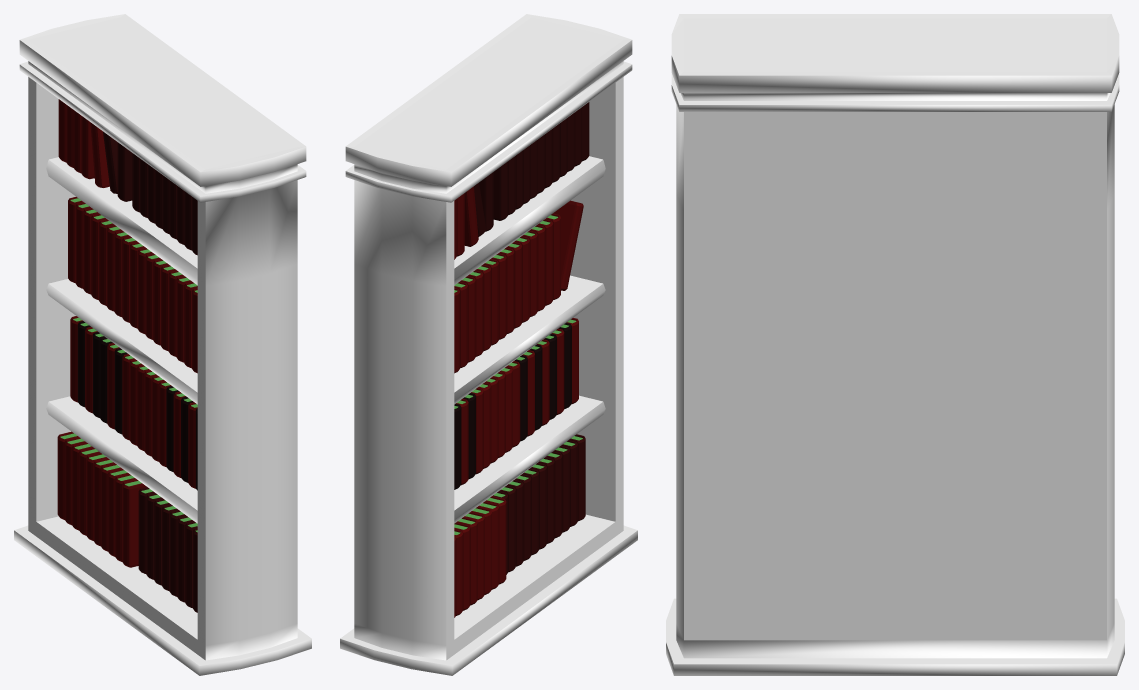
File: Left2.fbx
3 views of the same model, side by side, from view 1: azimuth 30°, elevation 25°; view 2: azimuth 150°, elevation 25°; view 3: azimuth 270°, elevation 25° (orthographic). The views are drawn at different scales.
Visible parts, largest first — view 1: Book Shelf.009; view 2: Book Shelf.009; view 3: Book Shelf.009.
Part boxes in pixels (<box>): Book Shelf.009: <box>14,14,311,675</box>; Book Shelf.009: <box>340,14,637,675</box>; Book Shelf.009: <box>666,14,1124,675</box>.
Bounding box in the file's own units: 381 × 1622 × 1127.
